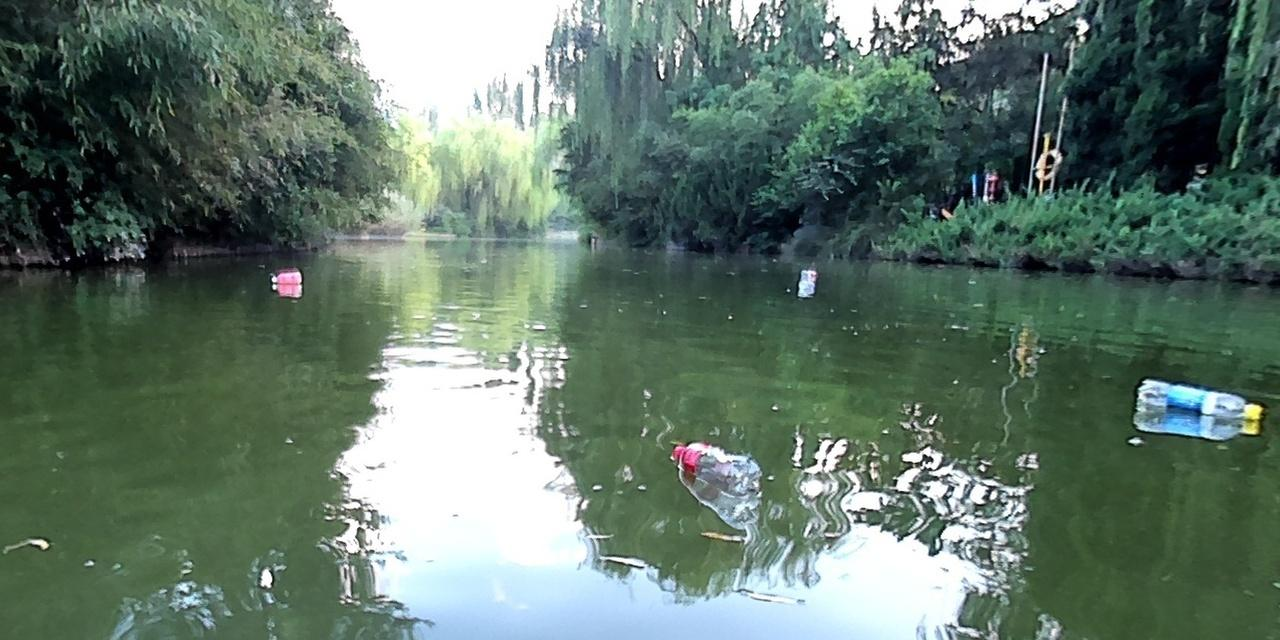bottle: (1136, 377, 1261, 420), (670, 440, 759, 494), (271, 271, 302, 281), (796, 281, 814, 290)
